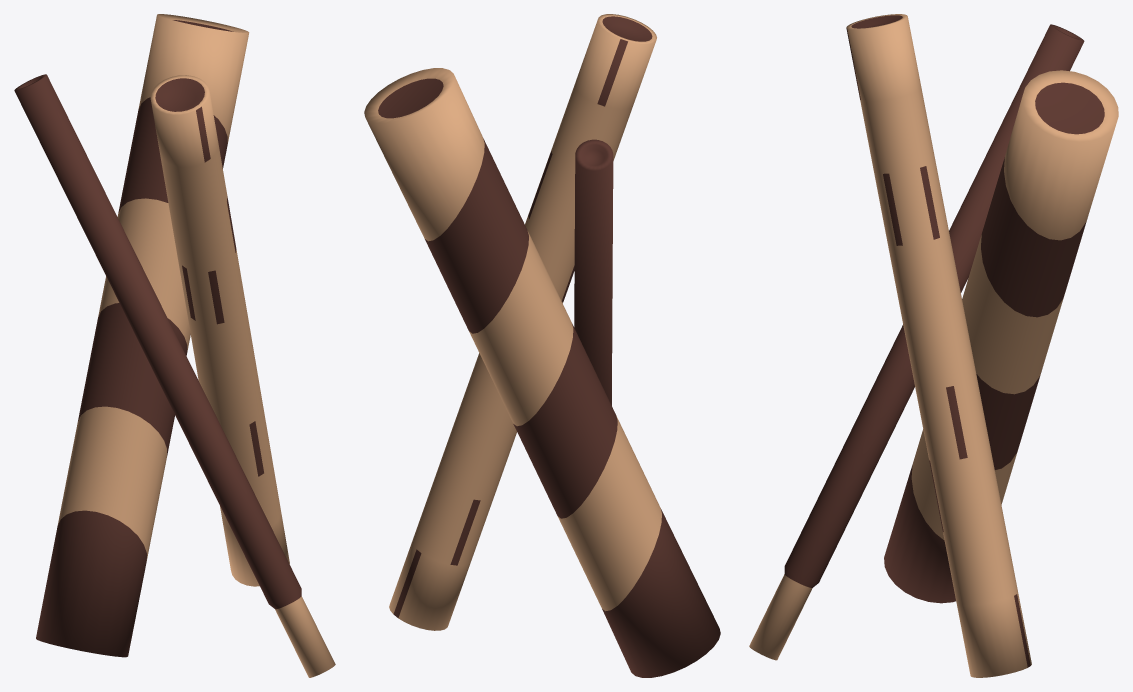
Rendered from sticks.fbx.
The picture shows the model from 3 angles, left to right: view 1: azimuth 30°, elevation 25°; view 2: azimuth 150°, elevation 25°; view 3: azimuth 270°, elevation 25°; orthographic projection. The views are drawn at different scales.
Visible parts, largest first — view 1: Tank_mure.002; view 2: Tank_mure.002; view 3: Tank_mure.002.
Part boxes in pixels (left/top/right/bottom): Tank_mure.002: left=14, top=14, right=335, bottom=677; Tank_mure.002: left=364, top=14, right=720, bottom=677; Tank_mure.002: left=749, top=14, right=1118, bottom=677.
Size of the model in its own units: 382 by 772 by 424.
